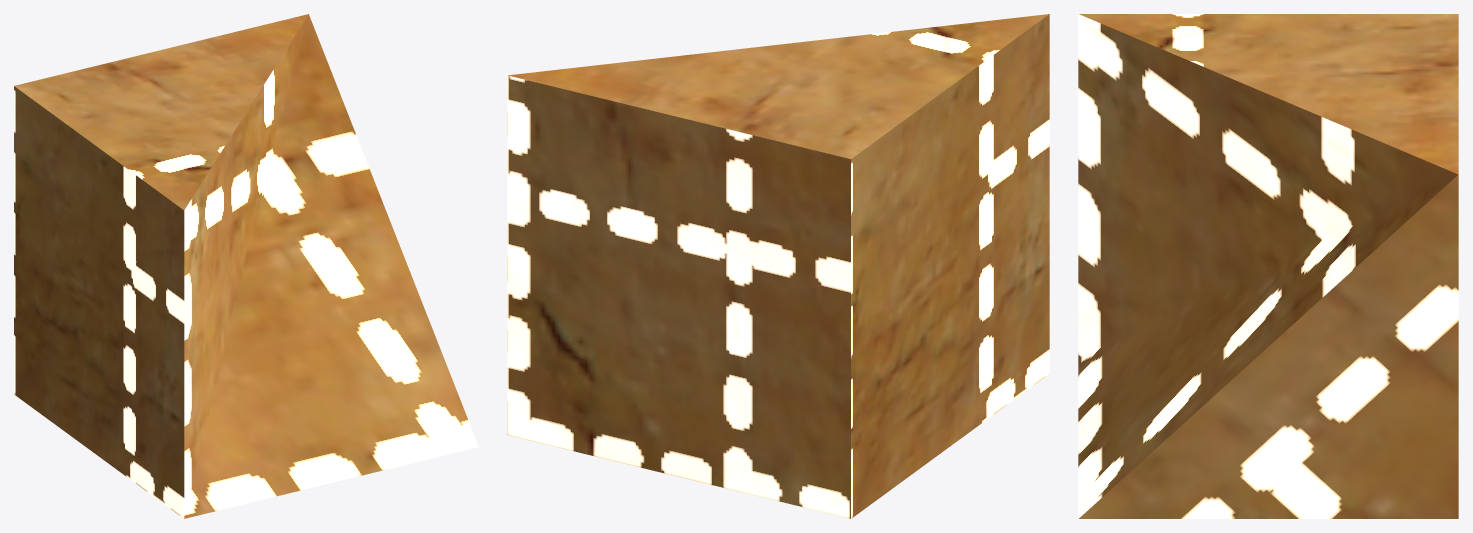
File: block-ramp-edge-in.glb
3 views of the same model, side by side, from view 1: azimuth 30°, elevation 25°; view 2: azimuth 150°, elevation 25°; view 3: azimuth 270°, elevation 25° (orthographic). The views are drawn at different scales.
Visible parts, largest first — view 1: Block-Ramp-Edge-In; view 2: Block-Ramp-Edge-In; view 3: Block-Ramp-Edge-In.
Boxes of the visible parts, bbox=[...] form: Block-Ramp-Edge-In: bbox=[14, 14, 478, 518]; Block-Ramp-Edge-In: bbox=[507, 14, 1049, 518]; Block-Ramp-Edge-In: bbox=[1078, 14, 1458, 518].
Size of the model in its own units: 2 by 2 by 2.
Materials: 1 (1 with a texture image).
